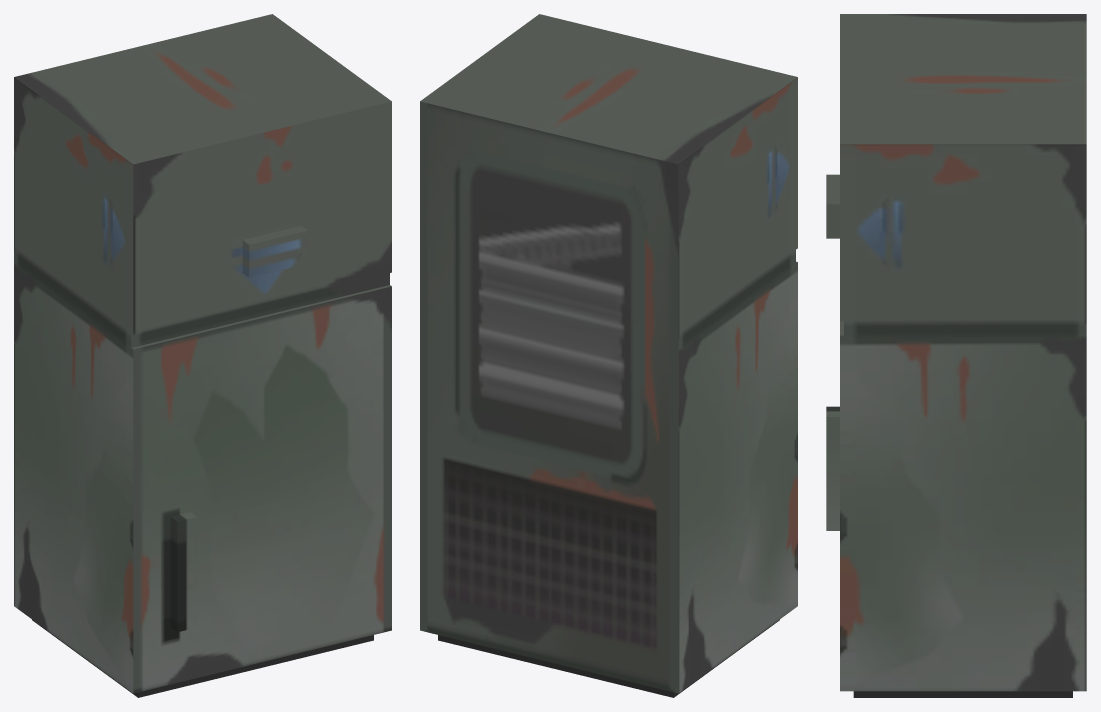
The model's file is Building_AncientColdStorage.glb.
3 renders of one model, left to right at view 1: azimuth 30°, elevation 25°; view 2: azimuth 150°, elevation 25°; view 3: azimuth 270°, elevation 25°, orthographic. The views are drawn at different scales.
Visible parts, largest first — view 1: AncientColdStorage; view 2: AncientColdStorage; view 3: AncientColdStorage.
Part boxes in pixels (box(x1,y1,x2,y2)): AncientColdStorage: box(14, 14, 391, 697); AncientColdStorage: box(420, 14, 797, 697); AncientColdStorage: box(826, 14, 1086, 697).
Size of the model in its own units: 0.9 by 1.8 by 0.76.
1 material, 1 textured.
